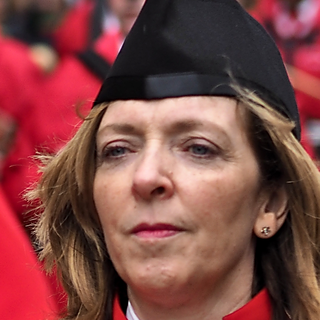eye: (177, 138, 225, 163), (99, 138, 142, 164)
